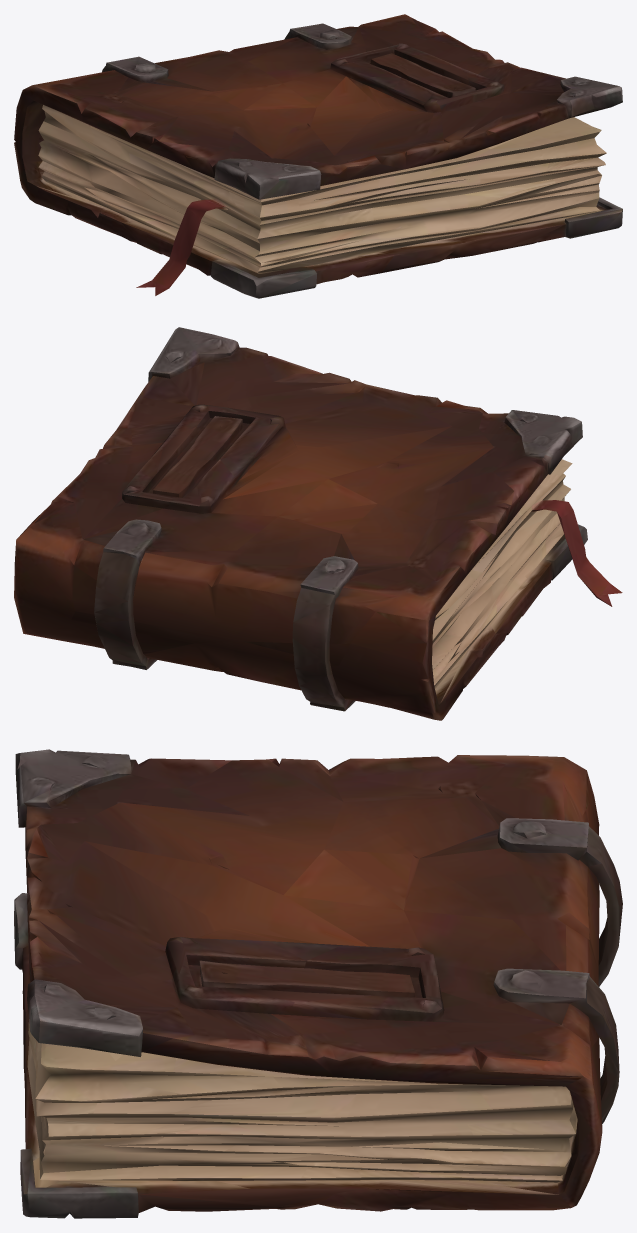
Rendered from note_diary_zapiska_idle.glb.
3 views of the same model, one above another, from view 1: azimuth 30°, elevation 25°; view 2: azimuth 150°, elevation 25°; view 3: azimuth 270°, elevation 25° (orthographic). The views are drawn at different scales.
Parts seen in each view (by area): view 1: tripo_node_c32e6c5b-7727-4e05-89d5-ae3362dd563d; view 2: tripo_node_c32e6c5b-7727-4e05-89d5-ae3362dd563d; view 3: tripo_node_c32e6c5b-7727-4e05-89d5-ae3362dd563d.
Boxes of the visible parts, x1,y1,x2,y2 form: tripo_node_c32e6c5b-7727-4e05-89d5-ae3362dd563d: (14,14,622,298); tripo_node_c32e6c5b-7727-4e05-89d5-ae3362dd563d: (14,327,622,720); tripo_node_c32e6c5b-7727-4e05-89d5-ae3362dd563d: (14,749,622,1218).
Bounding box in the file's own units: 0.2002 × 0.0663 × 0.1583.
1 material, 1 textured.
